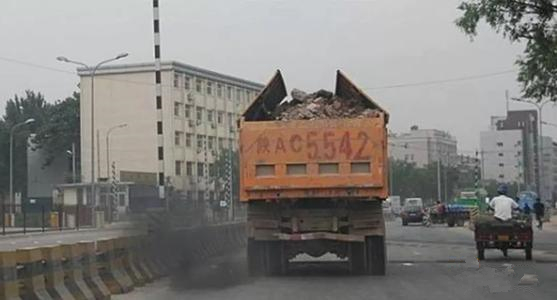smoke: (138, 222, 247, 290)
